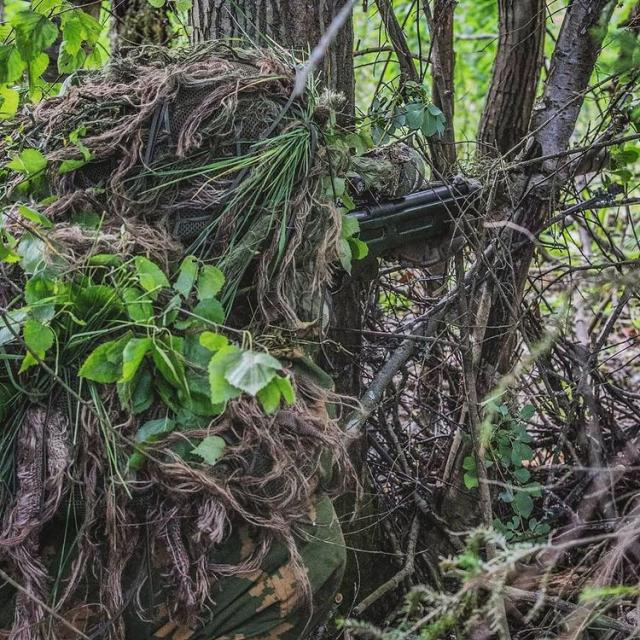Camouflage: (8, 41, 486, 614)
